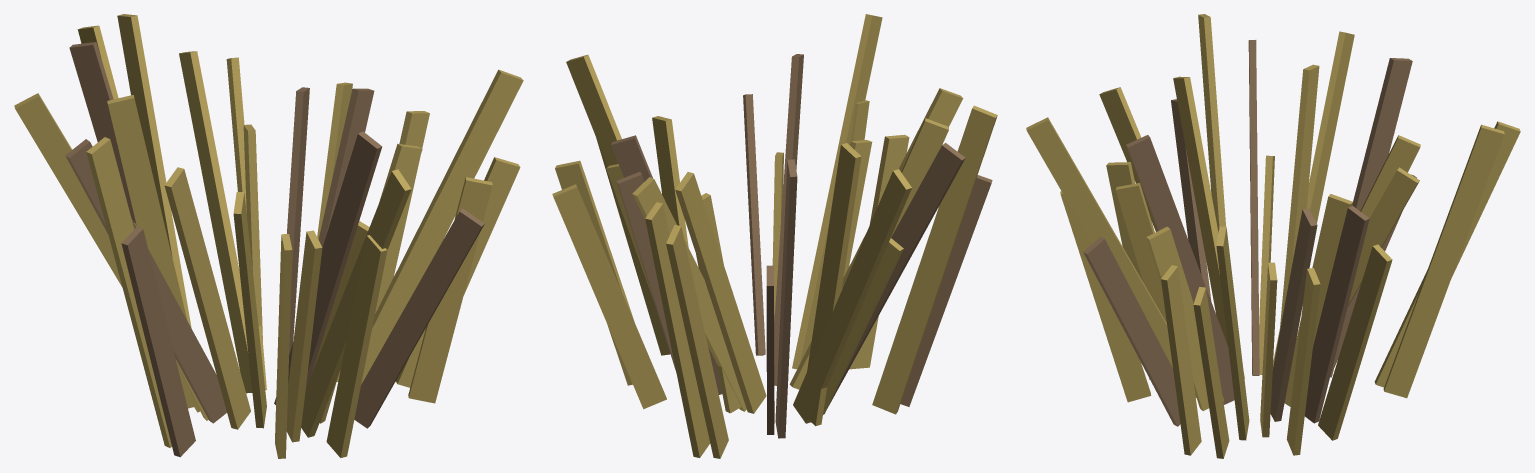
Rendered from buisson_desert_1.glb.
3 renders of one model, left to right at view 1: azimuth 30°, elevation 25°; view 2: azimuth 150°, elevation 25°; view 3: azimuth 270°, elevation 25°, orthographic. The views are drawn at different scales.
Parts seen in each view (by area): view 1: herbe_herbe_seche.004, herbe_bois_sec.002; view 2: herbe_herbe_seche.004, herbe_bois_sec.002; view 3: herbe_herbe_seche.004, herbe_bois_sec.002.
Boxes of the visible parts, left/top/right/bottom form: herbe_herbe_seche.004: left=14, top=14, right=523, bottom=458; herbe_bois_sec.002: left=65, top=42, right=484, bottom=457; herbe_herbe_seche.004: left=552, top=14, right=997, bottom=458; herbe_bois_sec.002: left=611, top=54, right=992, bottom=438; herbe_herbe_seche.004: left=1026, top=14, right=1520, bottom=458; herbe_bois_sec.002: left=1083, top=40, right=1416, bottom=426.
Bounding box in the file's own units: 0.6593 × 0.4759 × 0.7069.
